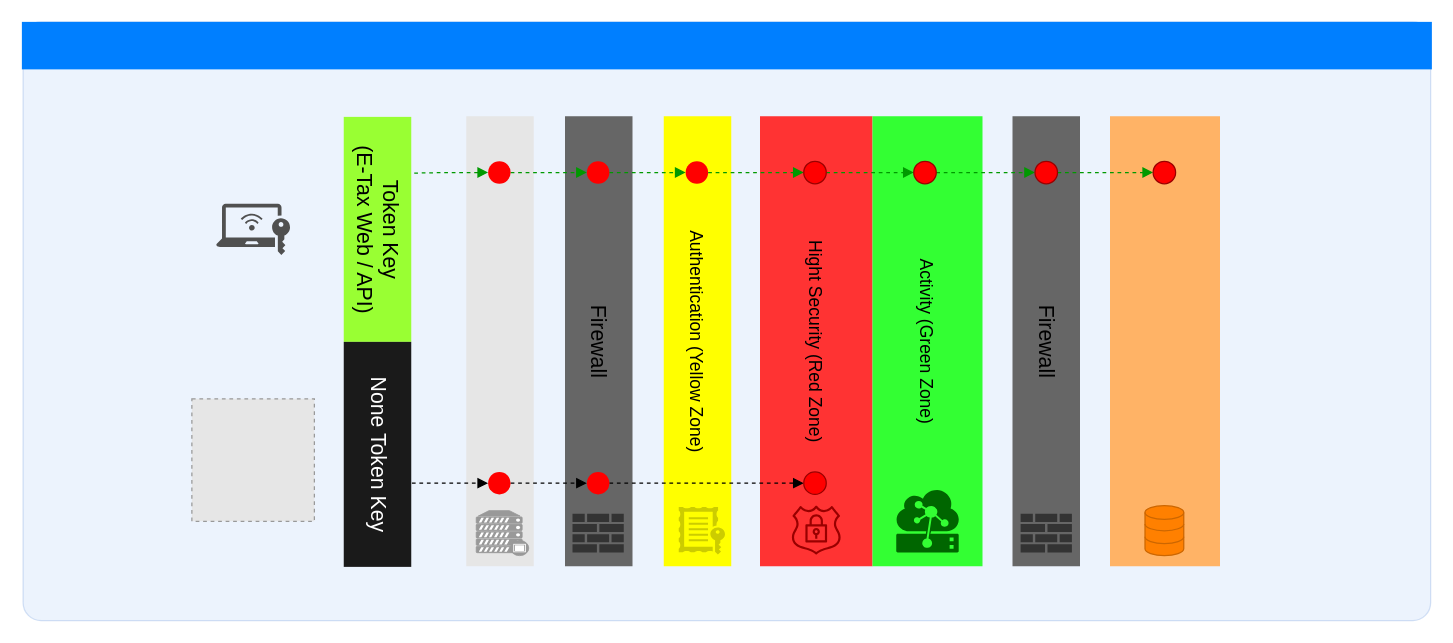
Some shapes in this 1453 by 643 pixel diagram are drawn without their labels. Grey dashed boxes stand in for pictures. The shapes that lost their labels are listed below. From the top down, each one's box as (x1, y1, x2, y2) in pixels, then its label:
(21, 21, 1431, 69): E-Tax Security Structure
(466, 116, 533, 566): Proxy
(1109, 116, 1219, 566): Database
